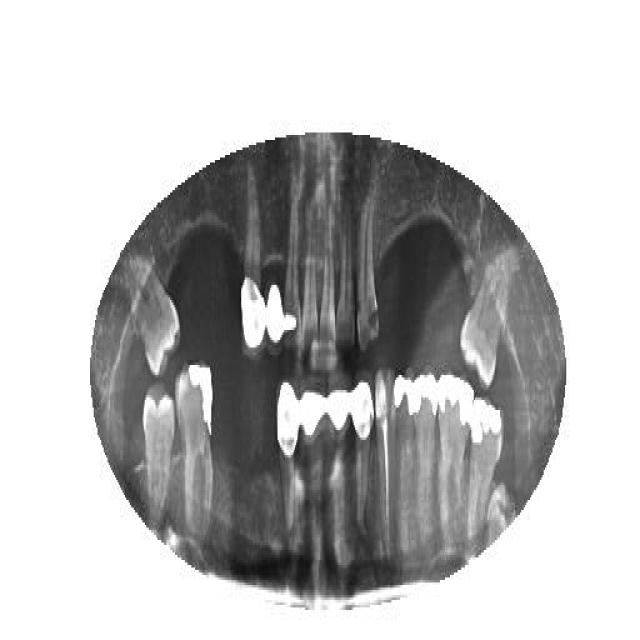Fillings: (174, 362, 215, 528), (438, 365, 472, 560), (462, 400, 502, 548), (410, 367, 438, 555), (350, 378, 375, 562), (390, 372, 416, 548), (238, 228, 270, 368), (278, 380, 304, 542), (324, 388, 350, 550), (300, 382, 326, 538), (282, 193, 304, 355), (266, 272, 285, 358)
